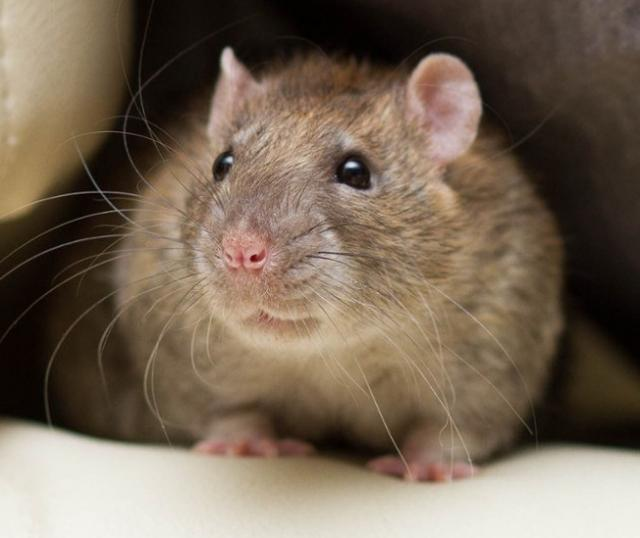rat: (49, 27, 582, 494)
